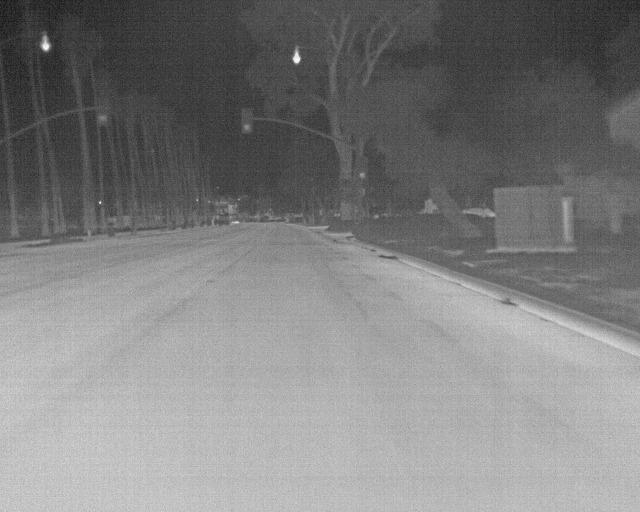car: (229, 212, 240, 224), (219, 212, 230, 224)
